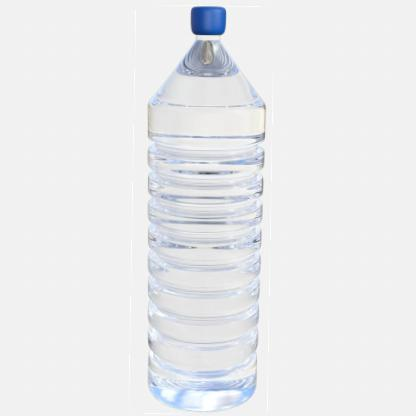plastic-bottles: (132, 6, 274, 416)
